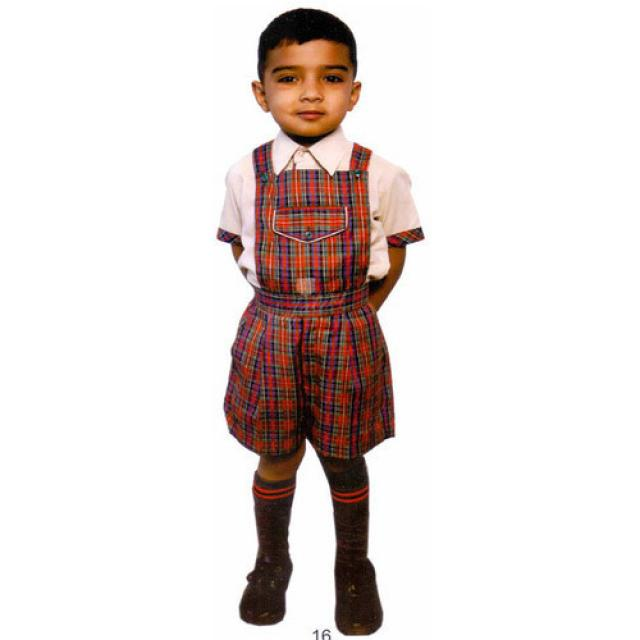child: (211, 4, 433, 639)
